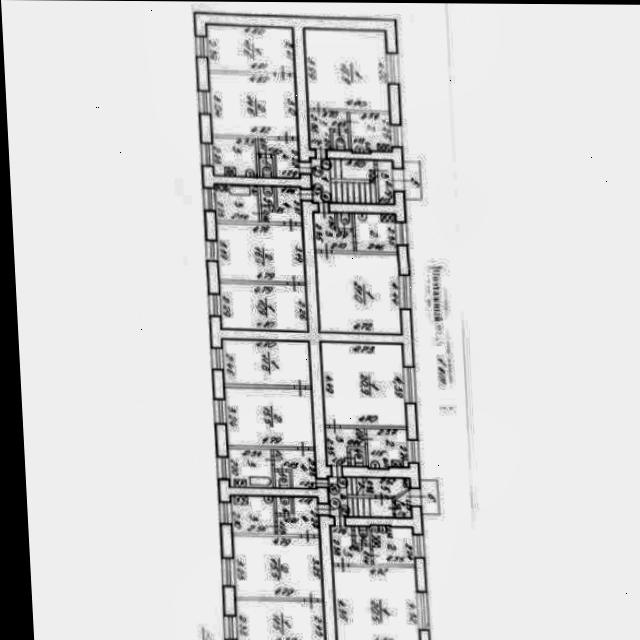room: (320, 340, 405, 430), (302, 31, 389, 109), (315, 255, 401, 332), (332, 567, 417, 640), (231, 537, 322, 598), (207, 76, 297, 136), (224, 389, 314, 446), (216, 226, 303, 281), (217, 284, 306, 329), (221, 341, 310, 384), (206, 28, 294, 70), (234, 601, 324, 640), (327, 478, 409, 518), (310, 161, 376, 202), (226, 449, 270, 486), (230, 497, 275, 533), (273, 449, 314, 488), (348, 113, 390, 151), (257, 140, 299, 178), (354, 214, 397, 251), (211, 139, 255, 175), (307, 111, 347, 150), (325, 427, 364, 466), (370, 528, 413, 563), (313, 213, 351, 252), (366, 430, 407, 466), (330, 527, 369, 564), (277, 498, 317, 534), (261, 187, 301, 223), (214, 187, 257, 220), (376, 160, 393, 204), (402, 161, 420, 200), (419, 480, 438, 515), (393, 490, 410, 518), (349, 448, 365, 467), (331, 132, 347, 150), (259, 186, 274, 205), (353, 527, 369, 544), (258, 158, 272, 177), (276, 497, 291, 514), (336, 213, 351, 229), (275, 471, 289, 488)
